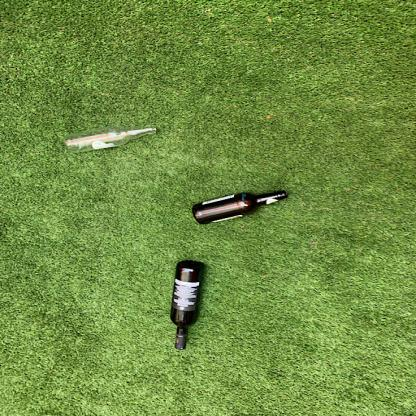trash: (190, 188, 289, 227), (167, 259, 207, 352), (62, 123, 158, 152)
